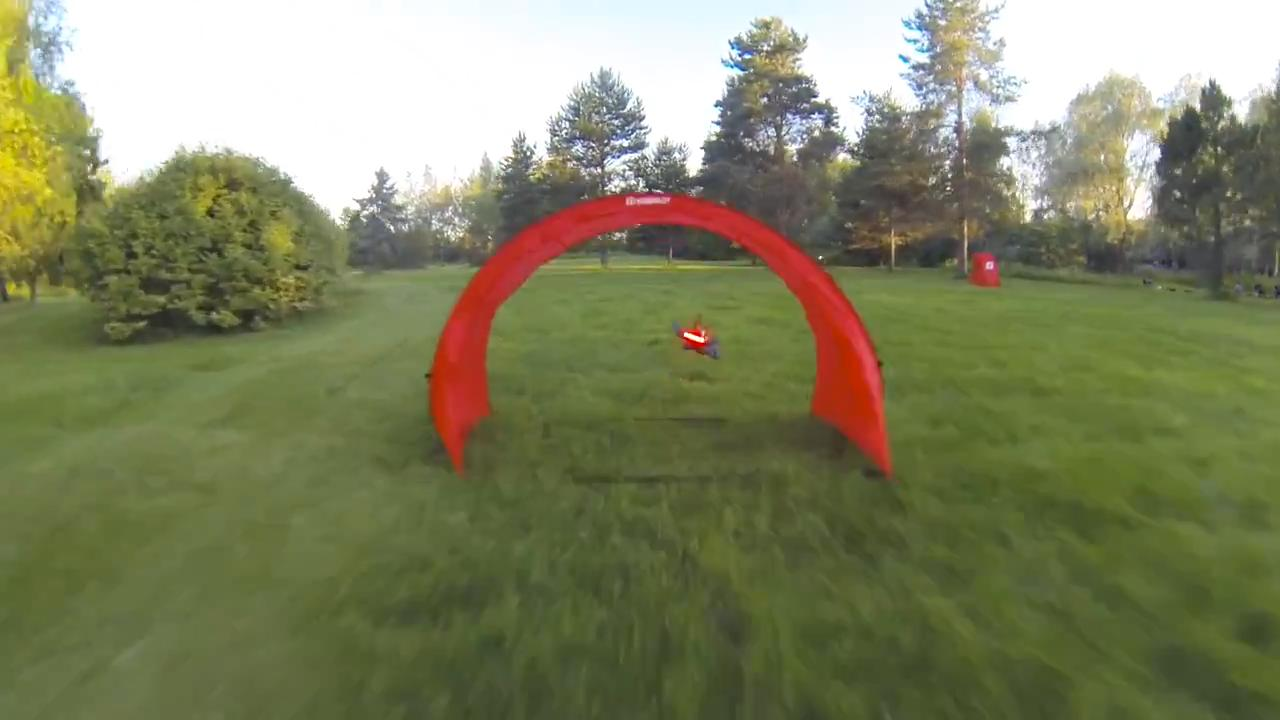gate: (397, 189, 893, 482)
